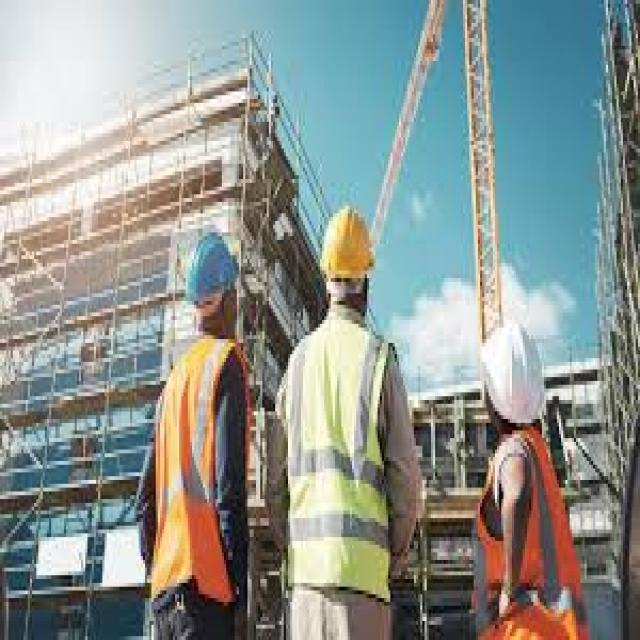Reflective-Jacket: (276, 312, 406, 614), (141, 332, 256, 617), (471, 426, 584, 640)
Safety-Helmet: (472, 309, 554, 434), (311, 194, 384, 297), (175, 217, 245, 316)
